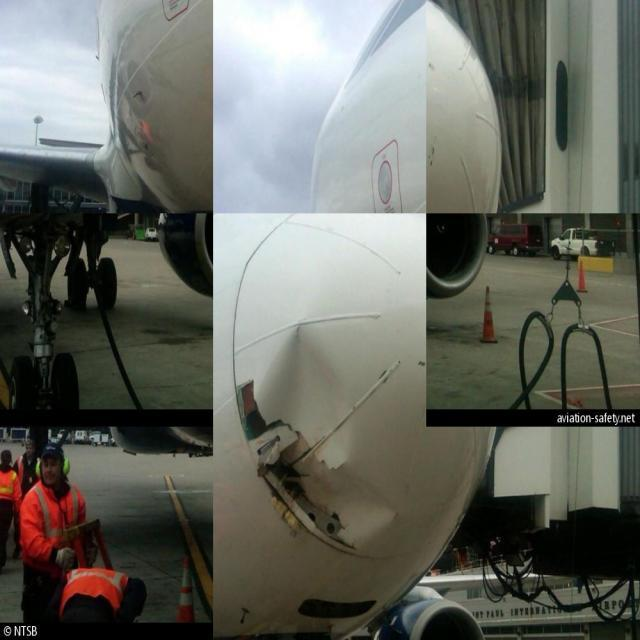dent: (256, 327, 359, 463), (326, 466, 400, 550)
